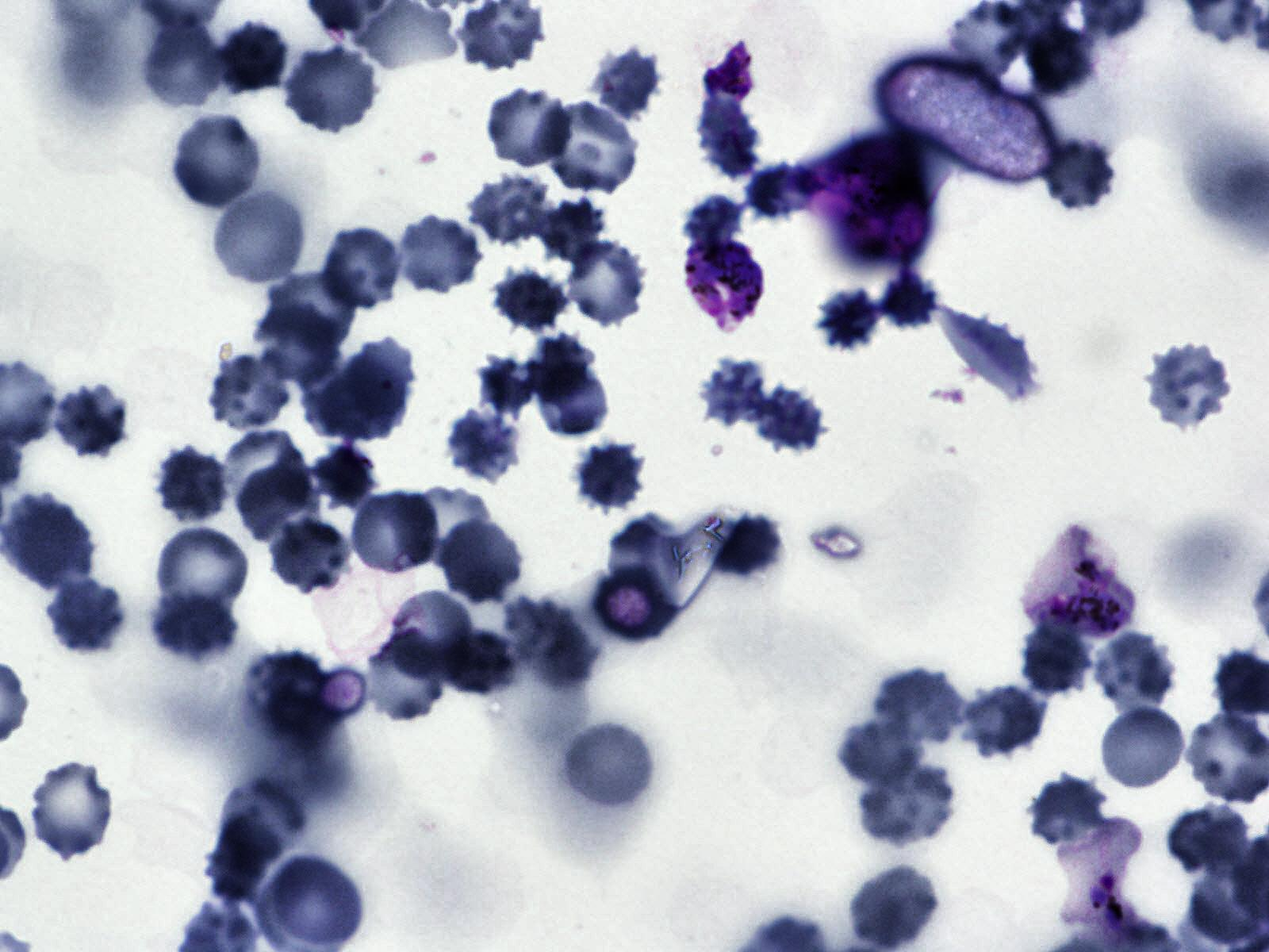Infected: (1026, 528, 1135, 634), (1059, 815, 1142, 942), (681, 228, 770, 330)
Uninfected: (209, 186, 310, 290), (151, 522, 255, 620), (537, 101, 642, 198), (264, 851, 365, 950), (554, 718, 654, 816), (168, 111, 265, 212), (855, 755, 958, 846), (25, 760, 118, 860), (7, 491, 98, 593), (943, 306, 1039, 402), (304, 358, 412, 443), (387, 582, 477, 681), (504, 595, 599, 687), (1142, 340, 1237, 431), (281, 44, 379, 132), (1096, 703, 1190, 794), (360, 630, 450, 725), (347, 489, 441, 578), (848, 862, 941, 949), (258, 267, 359, 346), (393, 486, 489, 569), (872, 666, 964, 752), (562, 238, 650, 326), (393, 213, 485, 296), (484, 85, 575, 168), (255, 299, 338, 389), (1091, 631, 1178, 715), (205, 352, 295, 433), (146, 587, 239, 664), (243, 650, 330, 732), (831, 717, 928, 790), (143, 18, 222, 107), (220, 778, 305, 860), (266, 517, 353, 597), (961, 680, 1049, 759), (320, 227, 404, 309), (466, 172, 555, 248), (435, 622, 519, 702), (236, 465, 322, 543), (42, 578, 127, 656), (1164, 804, 1252, 879), (50, 380, 133, 459), (530, 358, 611, 438), (442, 408, 526, 485), (695, 84, 761, 182), (1026, 776, 1110, 852), (1038, 136, 1118, 215), (436, 520, 517, 598), (590, 45, 668, 125), (947, 0, 1026, 78), (152, 446, 230, 524), (1019, 622, 1097, 700), (226, 429, 305, 505), (343, 336, 412, 421), (1022, 18, 1095, 97), (489, 265, 570, 336), (748, 382, 826, 455), (697, 356, 774, 429), (815, 285, 889, 357), (570, 440, 642, 513), (527, 335, 600, 407), (220, 19, 293, 88), (534, 194, 606, 263), (711, 508, 789, 571), (308, 446, 378, 507), (475, 351, 534, 420), (742, 164, 809, 221), (879, 267, 938, 328), (682, 192, 745, 244)
